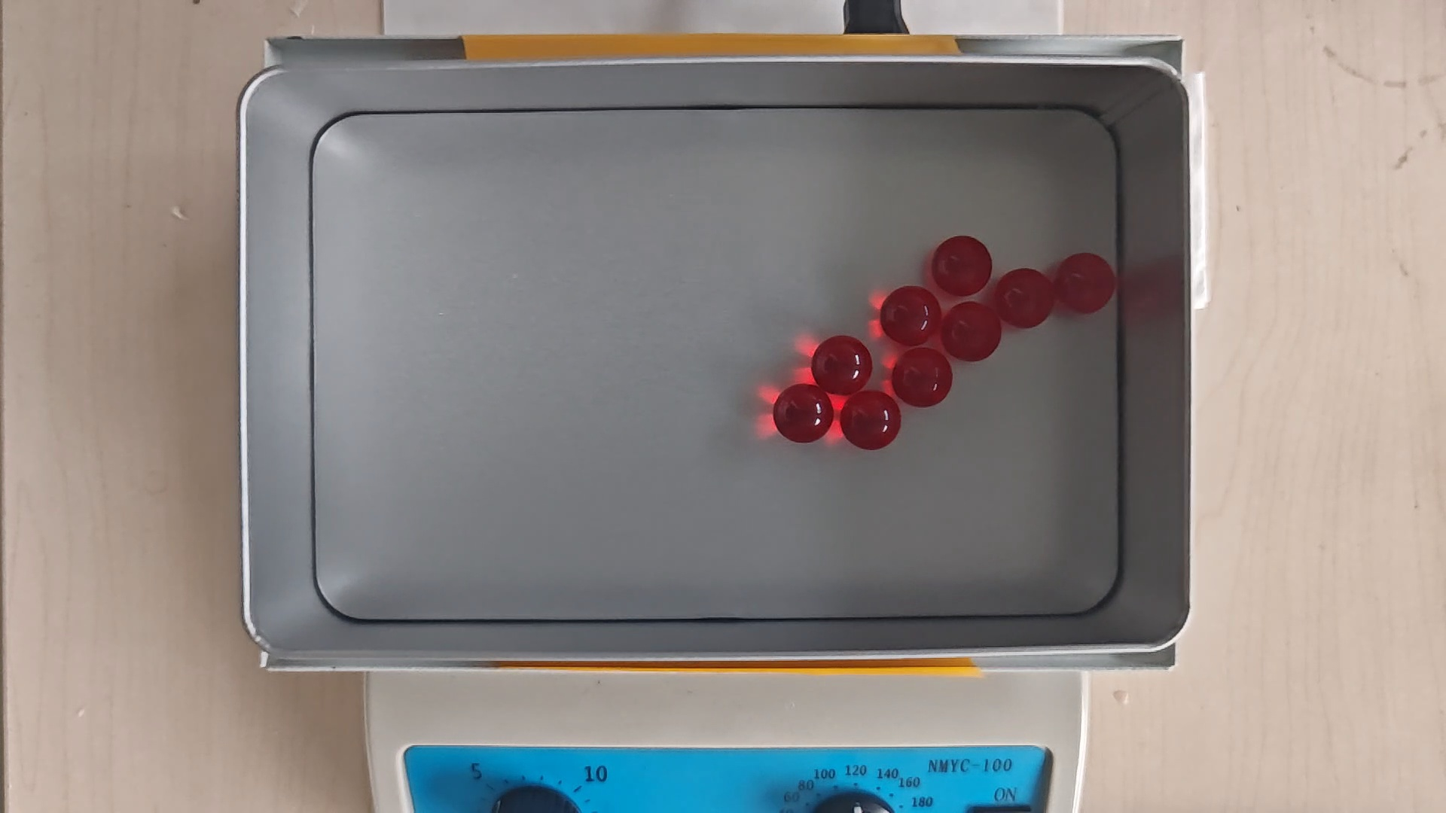ball: (1055, 253, 1116, 315), (942, 300, 1002, 363), (892, 347, 953, 408), (932, 235, 993, 296), (880, 286, 941, 346), (842, 390, 901, 451), (812, 335, 871, 395), (774, 384, 834, 443), (997, 268, 1055, 329)
container: (312, 107, 1120, 620)
